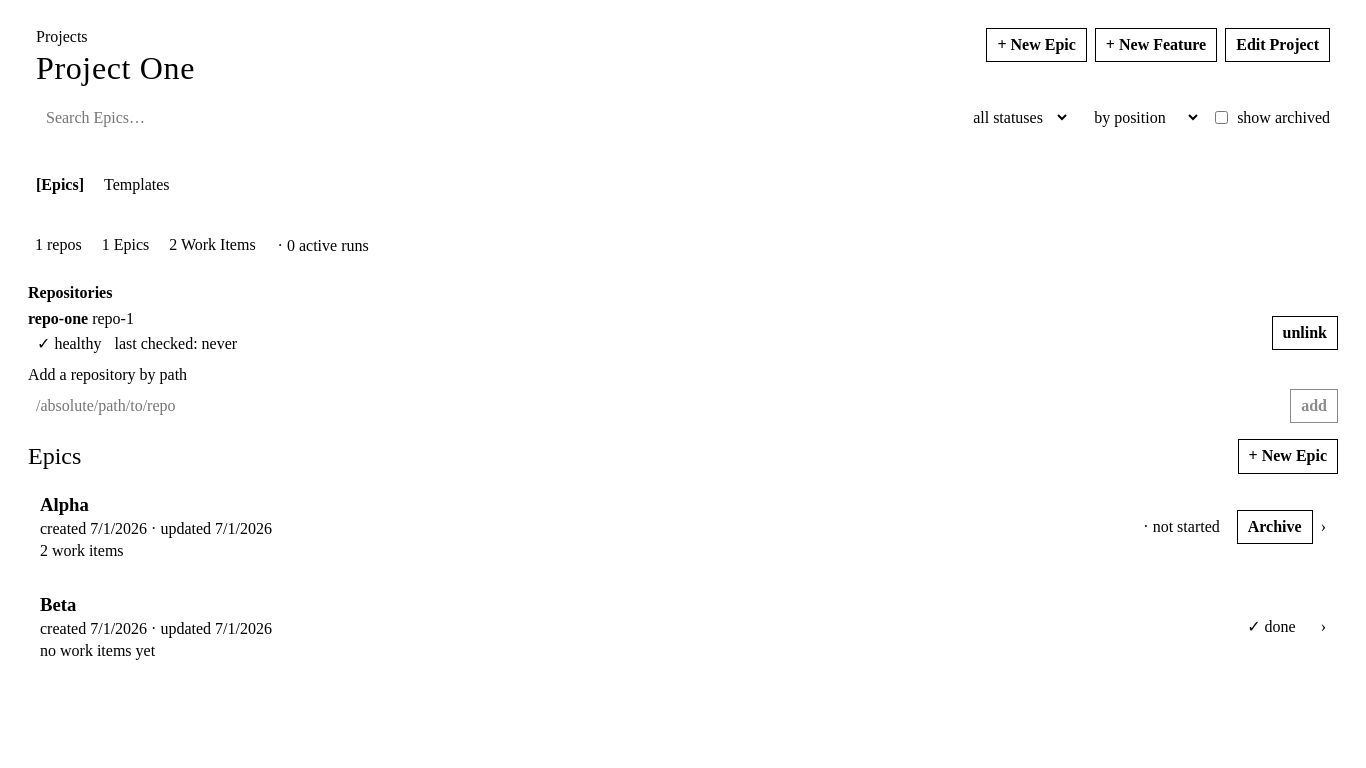
Test: ProjectDetailPage tabs (PF-11) › preserves epic list filters across tab switches
Select "done" in the dropdown named "Epic status": {"x": 1015, "y": 118} [959,101,1070,134]
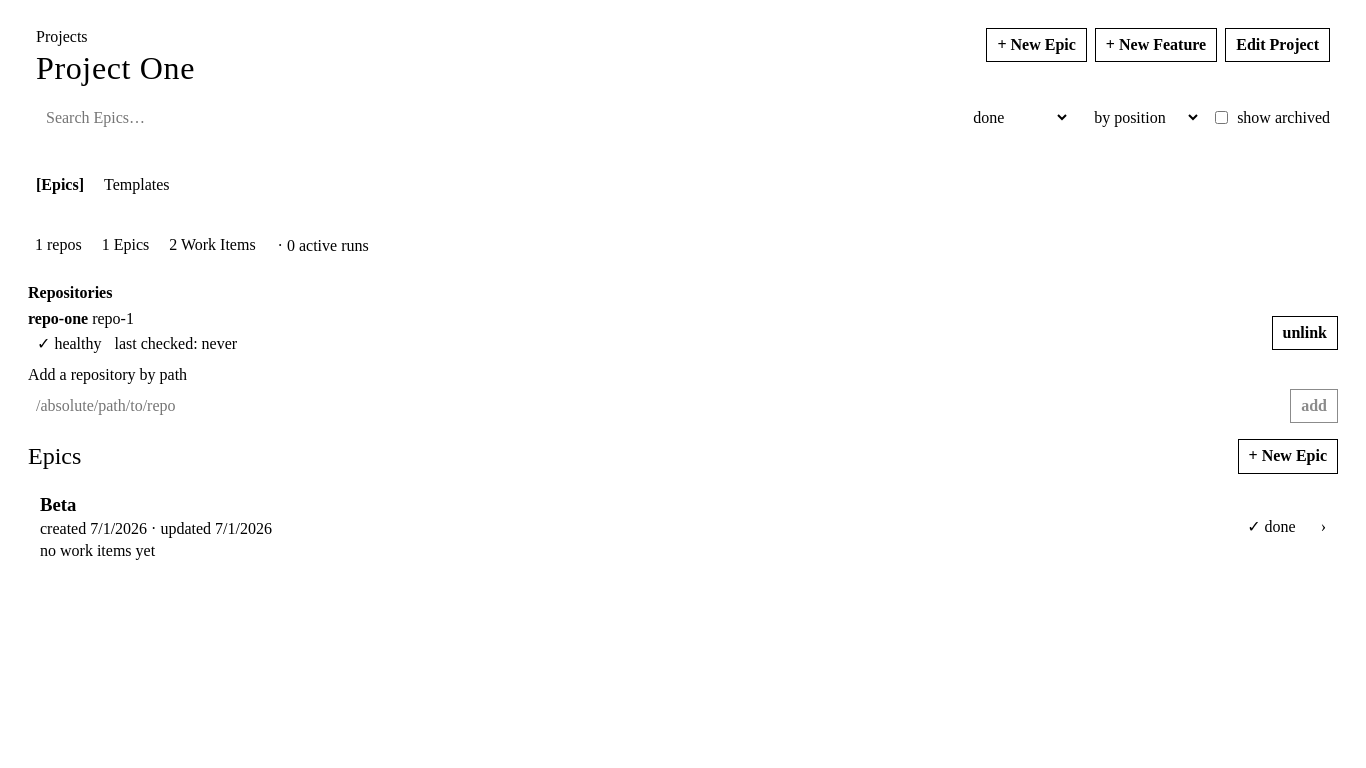
Click the button "Templates": {"x": 137, "y": 185} [96,170,178,200]
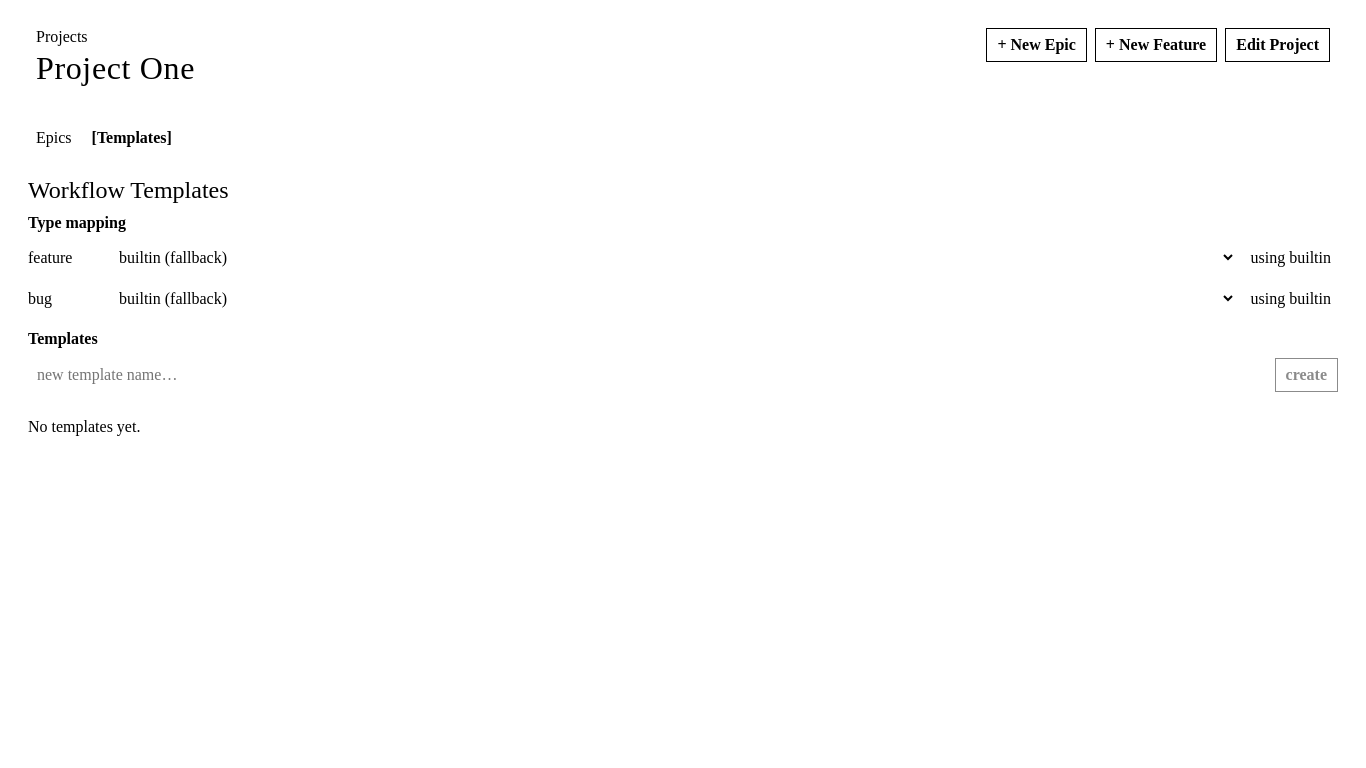
Click the button "Epics": {"x": 54, "y": 138} [28,123,80,153]
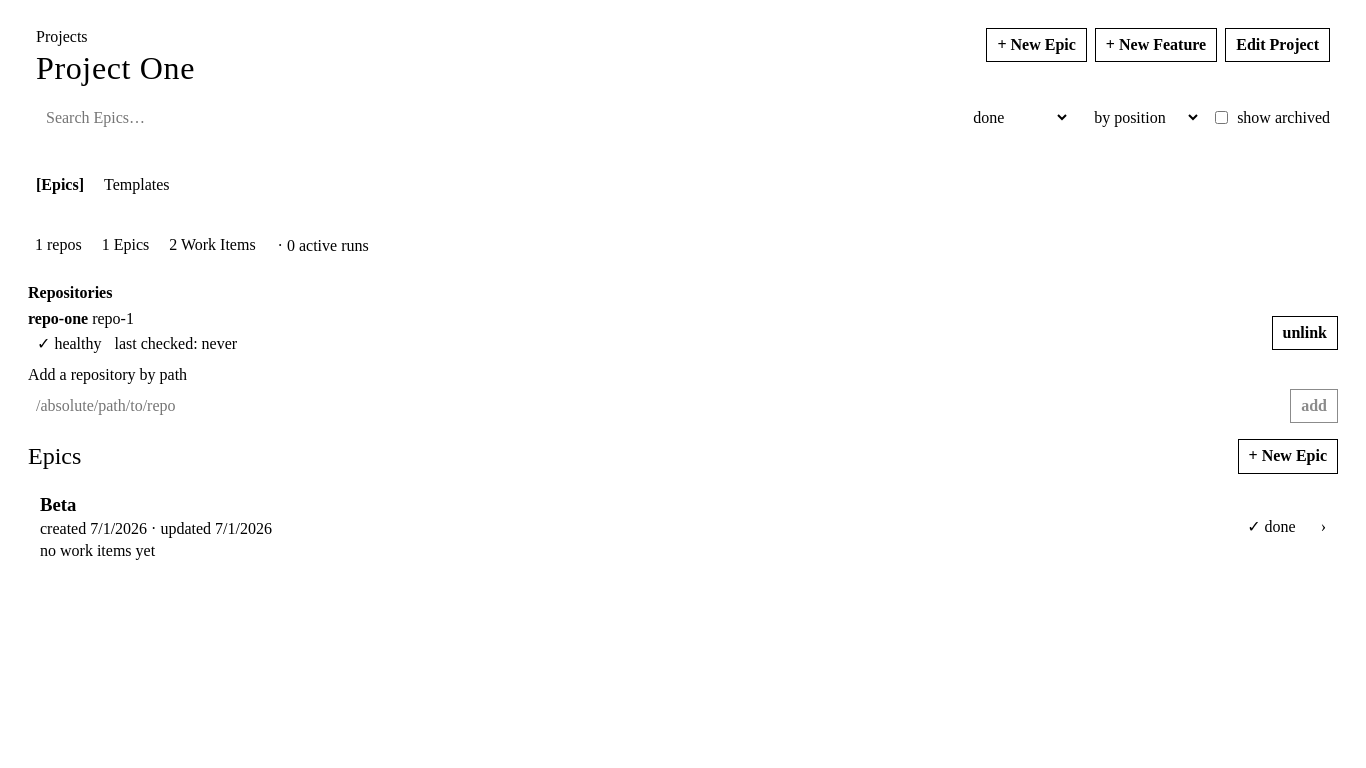
Result: the link with aria-label "Beta" shows "Beta" at [28,482,1338,572]
Result: the dropdown named "Epic status" shows "done" at [959,101,1070,134]
